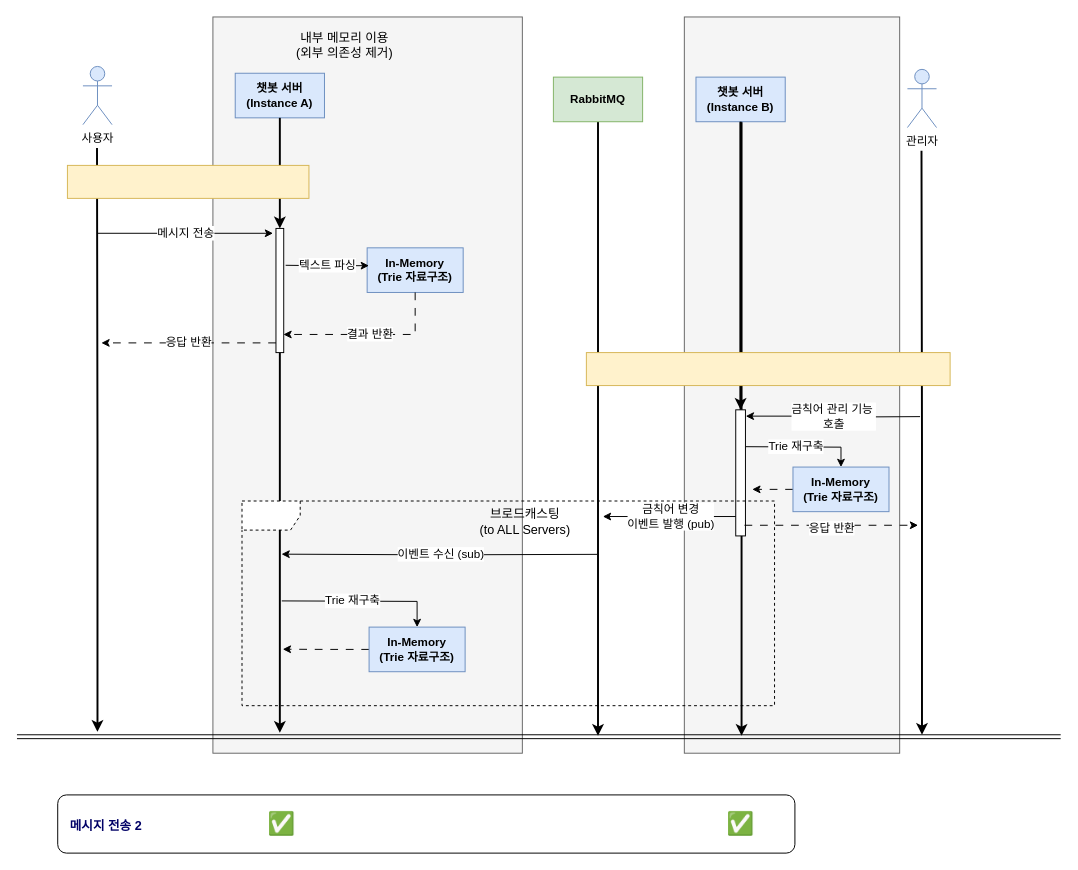
Some shapes in this 1078 by 870 pixel diagram are drawn without their labels. Each missing label, with the centre of its shape:
"[해결 1] 메모리 조회로 지연 시간 제거 (50ms)" belongs at (x=187, y=181).
"[해결 2] 비동기 브로드캐스팅으로 무중단 갱신" belongs at (x=767, y=369).
"par" belongs at (x=508, y=603).
